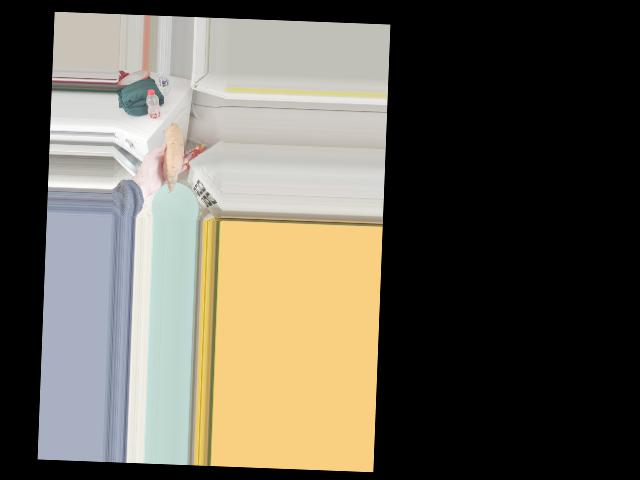sweet_potato: (158, 131, 181, 179)
